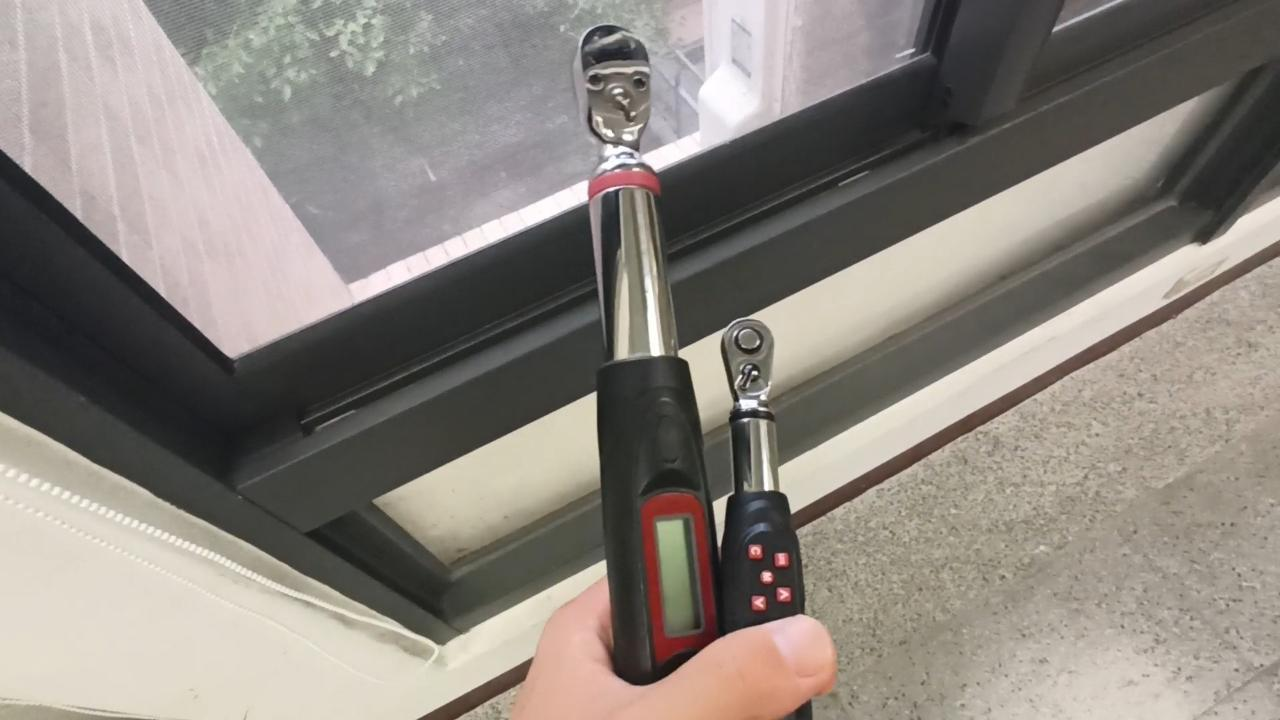Tool: (570, 29, 664, 194), (716, 316, 778, 410)
